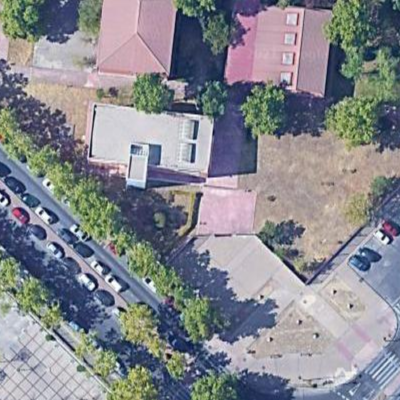tree: (323, 1, 392, 62), (324, 94, 385, 150), (241, 80, 291, 139), (130, 68, 177, 118), (104, 356, 155, 400), (184, 290, 226, 343), (193, 7, 237, 54), (150, 258, 191, 307), (119, 300, 160, 346), (74, 174, 110, 225), (98, 201, 136, 249), (127, 237, 169, 280), (190, 364, 239, 400), (18, 269, 53, 319), (195, 78, 229, 129), (3, 1, 46, 41), (50, 156, 86, 198), (25, 136, 61, 176), (3, 111, 33, 157)
